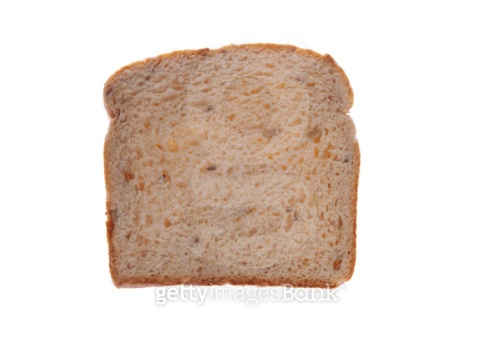slice of bread: (101, 42, 362, 290)
